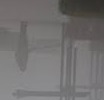person: (14, 20, 32, 73)
